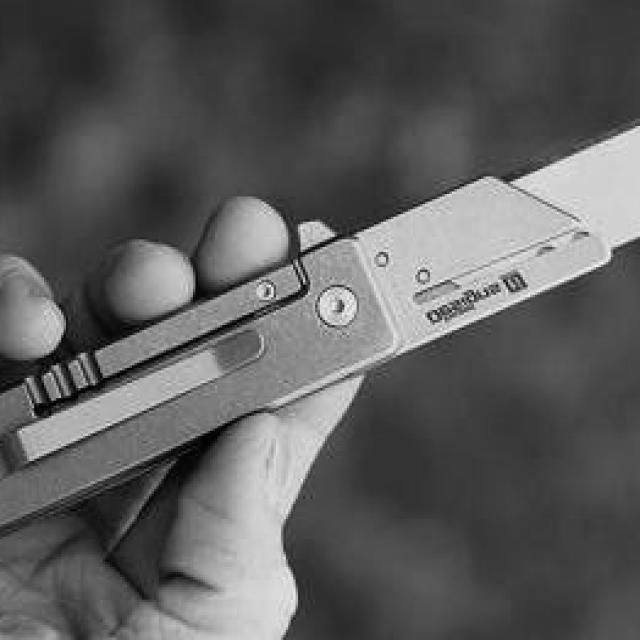estilete: (0, 117, 640, 531)
